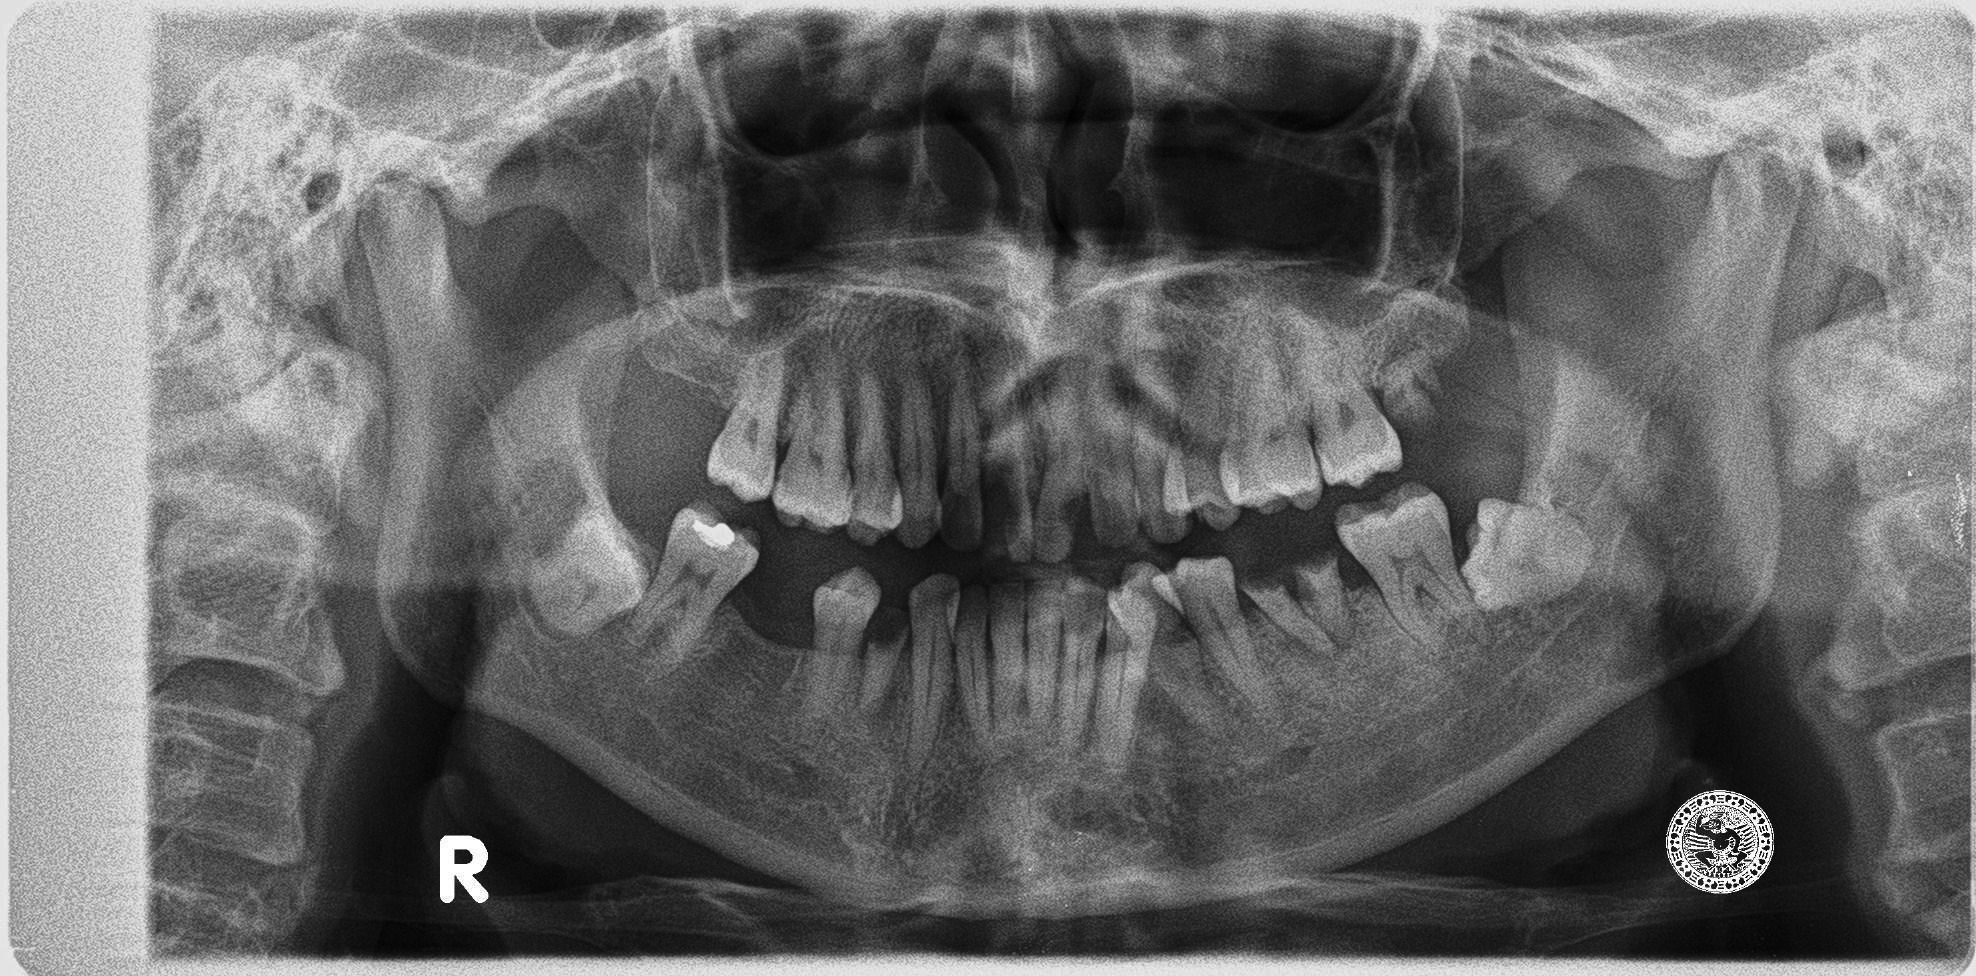Individual Tooth: (1333, 484, 1495, 654), (1152, 555, 1284, 728), (623, 502, 760, 662), (1109, 561, 1226, 747), (1288, 314, 1403, 485), (1222, 325, 1321, 517), (522, 501, 646, 636), (1164, 342, 1250, 531), (1461, 499, 1592, 610), (773, 371, 852, 530), (1132, 334, 1190, 541), (706, 351, 783, 501), (807, 567, 881, 717), (1098, 590, 1154, 781), (1079, 364, 1137, 549), (847, 367, 904, 543), (909, 574, 960, 763), (1056, 578, 1108, 758), (939, 584, 994, 747), (989, 402, 1046, 561), (1037, 386, 1085, 561), (896, 366, 941, 549), (939, 351, 980, 550), (1238, 576, 1338, 654), (1025, 578, 1062, 734), (987, 576, 1025, 731), (1294, 554, 1350, 651), (864, 607, 907, 702)
